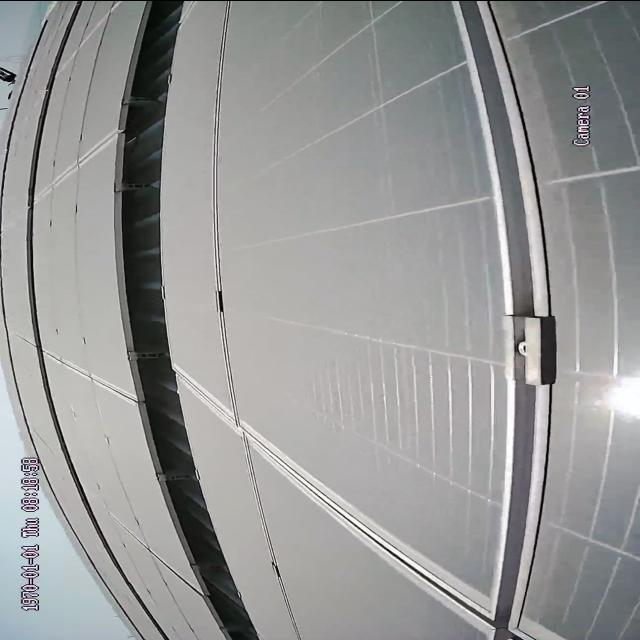interior panel: (188, 6, 576, 636), (43, 130, 108, 199), (128, 529, 193, 593), (52, 348, 125, 403)
outher panel: (113, 1, 259, 640)
